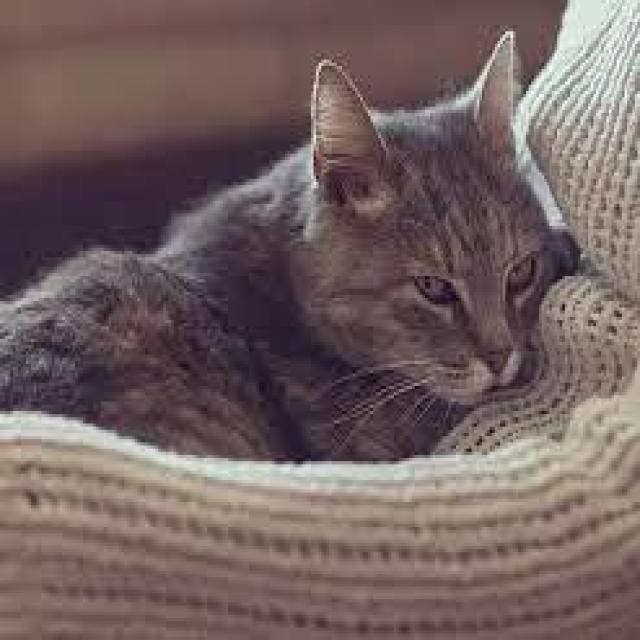cat: (0, 0, 570, 464)
